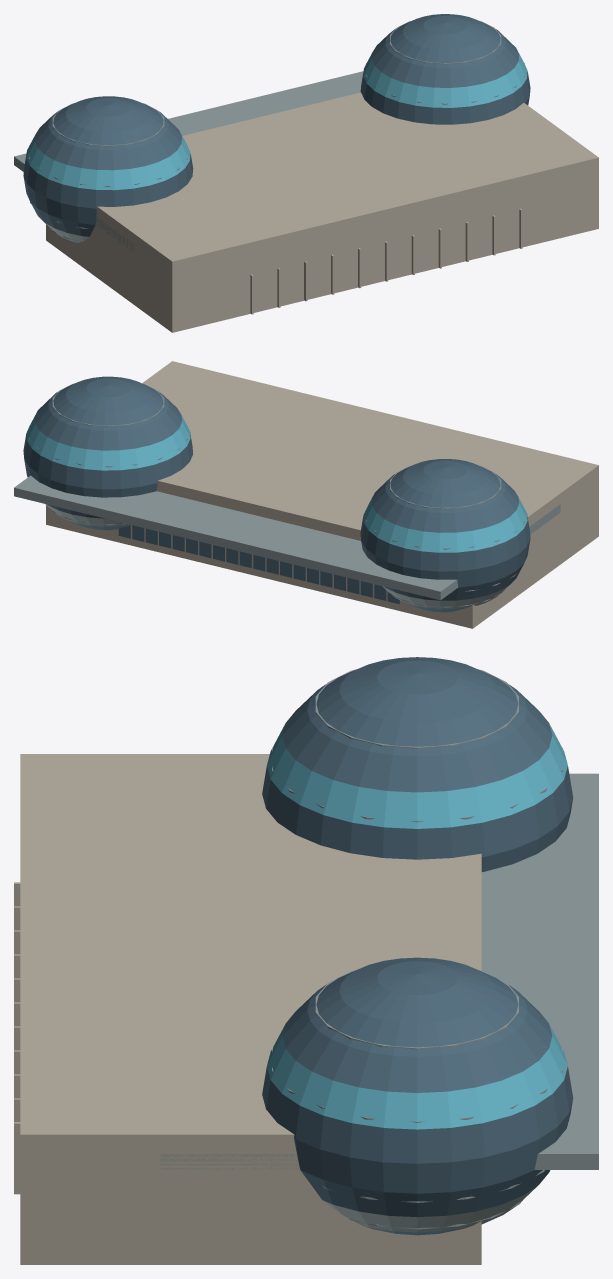
File: convention_far.glb
3 views of the same model, one above another, from view 1: azimuth 30°, elevation 25°; view 2: azimuth 150°, elevation 25°; view 3: azimuth 270°, elevation 25° (orthographic). The views are drawn at different scales.
Visible parts, largest first — view 1: Limestone, Glazing, NightCool, Silver; view 2: Limestone, Glazing, Silver, NightCool; view 3: Limestone, Glazing, Silver, NightCool.
Boxes of the visible parts, <box> form: Limestone: <box>46,92,598,332</box>; Glazing: <box>23,14,530,242</box>; NightCool: <box>26,51,527,190</box>; Silver: <box>14,21,524,251</box>; Limestone: <box>46,361,598,628</box>; Glazing: <box>23,376,530,612</box>; Silver: <box>14,383,560,608</box>; NightCool: <box>26,411,527,552</box>; Limestone: <box>14,754,481,1264</box>; Glazing: <box>262,657,573,1235</box>; Silver: <box>160,669,598,1232</box>; NightCool: <box>267,723,567,1129</box>.
Size of the model in its own units: 135 by 36.6 by 77.32.
